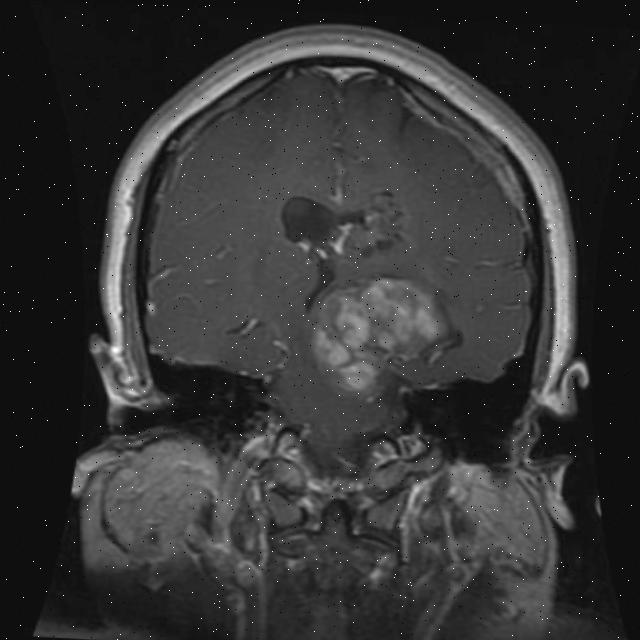Glioma: (308, 270, 451, 401), (316, 185, 407, 270)
